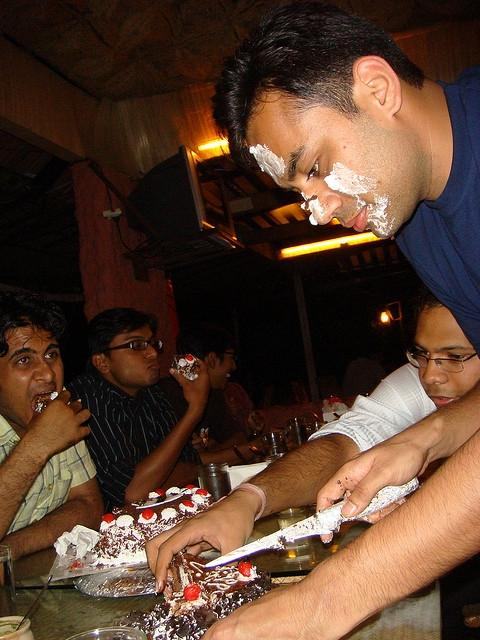cherry: (184, 584, 202, 600), (238, 562, 252, 578), (142, 509, 154, 520), (102, 514, 114, 524), (182, 500, 194, 508), (196, 488, 208, 496), (155, 489, 166, 496), (184, 484, 196, 490), (185, 354, 193, 360)
